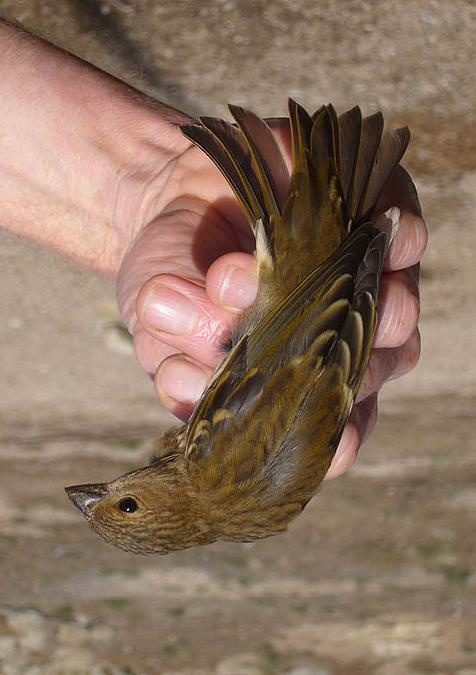rosefinch: (67, 136, 402, 570)
